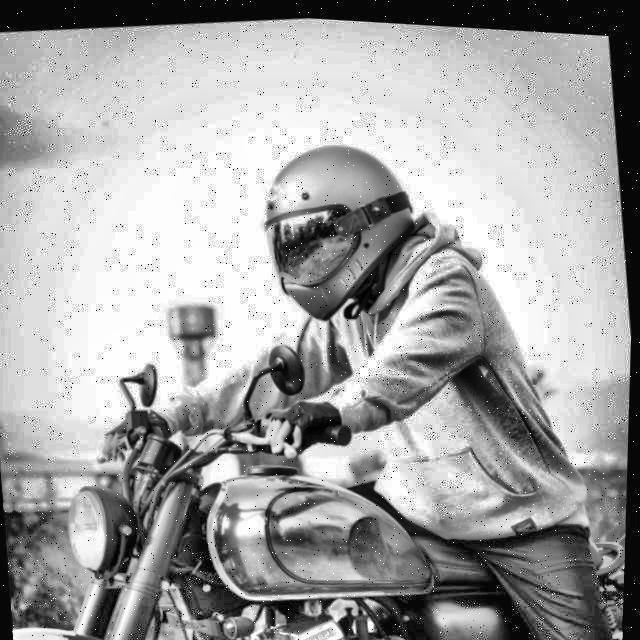Helmet: (250, 122, 436, 334)
